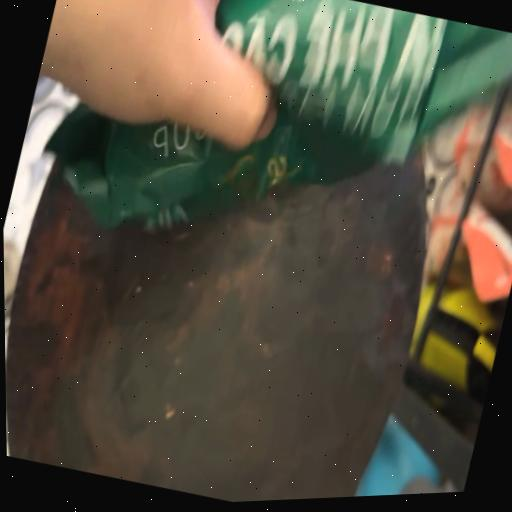cafe_xay: (47, 0, 512, 225)
